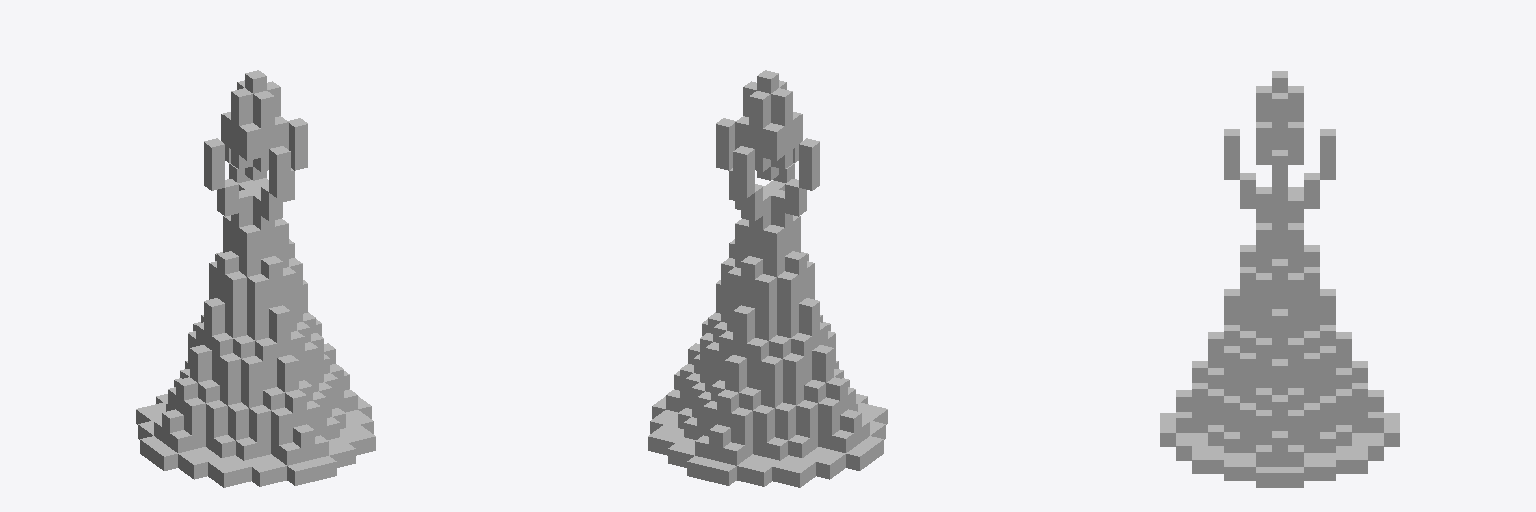
The model's file is Desert Mage Tower.obj.
3 views of the same model, side by side, from view 1: azimuth 30°, elevation 25°; view 2: azimuth 150°, elevation 25°; view 3: azimuth 270°, elevation 25° (orthographic).
Visible parts, largest first — view 1: object 1; view 2: object 1; view 3: object 1.
Boxes of the visible parts, <box> form: object 1: <box>136,70,375,487</box>; object 1: <box>648,70,887,487</box>; object 1: <box>1160,71,1399,487</box>.
Size of the model in its own units: 1.5 by 2.5 by 1.5.